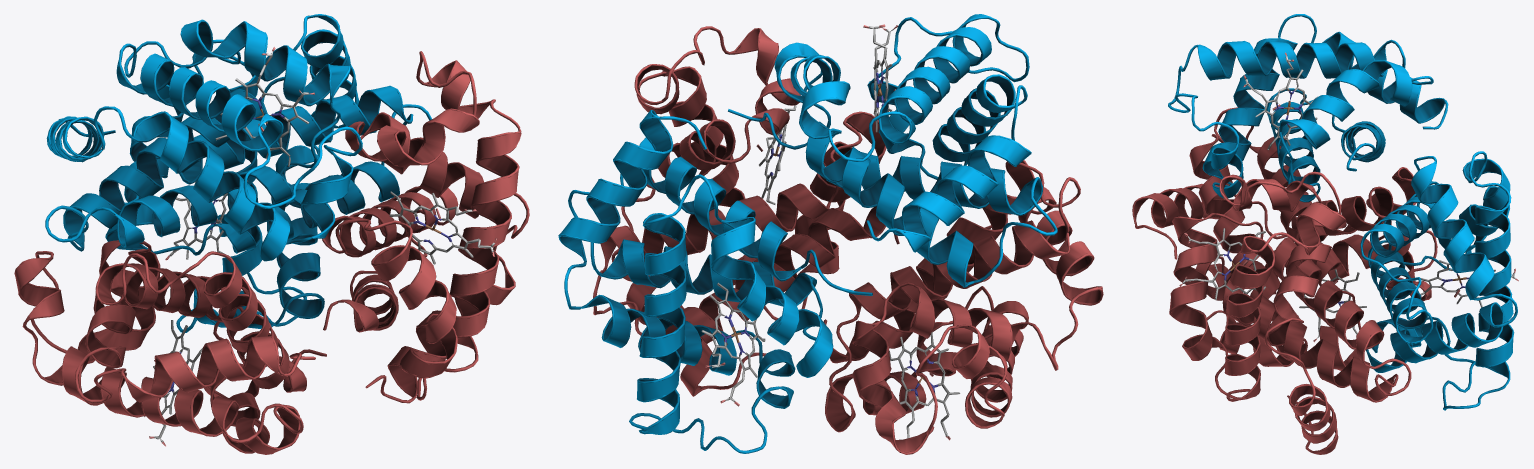
Rendered from hemo.glb.
The picture shows the model from 3 angles, left to right: view 1: azimuth 30°, elevation 25°; view 2: azimuth 150°, elevation 25°; view 3: azimuth 270°, elevation 25°; orthographic projection. The views are drawn at different scales.
Parts seen in each view (by area): view 1: haemo_2DN1_wrl; view 2: haemo_2DN1_wrl; view 3: haemo_2DN1_wrl.
Boxes of the visible parts, box(x1,y1,x2,y2) form: haemo_2DN1_wrl: box(14, 14, 529, 454); haemo_2DN1_wrl: box(558, 14, 1103, 454); haemo_2DN1_wrl: box(1132, 14, 1518, 454).
Bounding box in the file's own units: 6.13 × 5.15 × 5.42.
